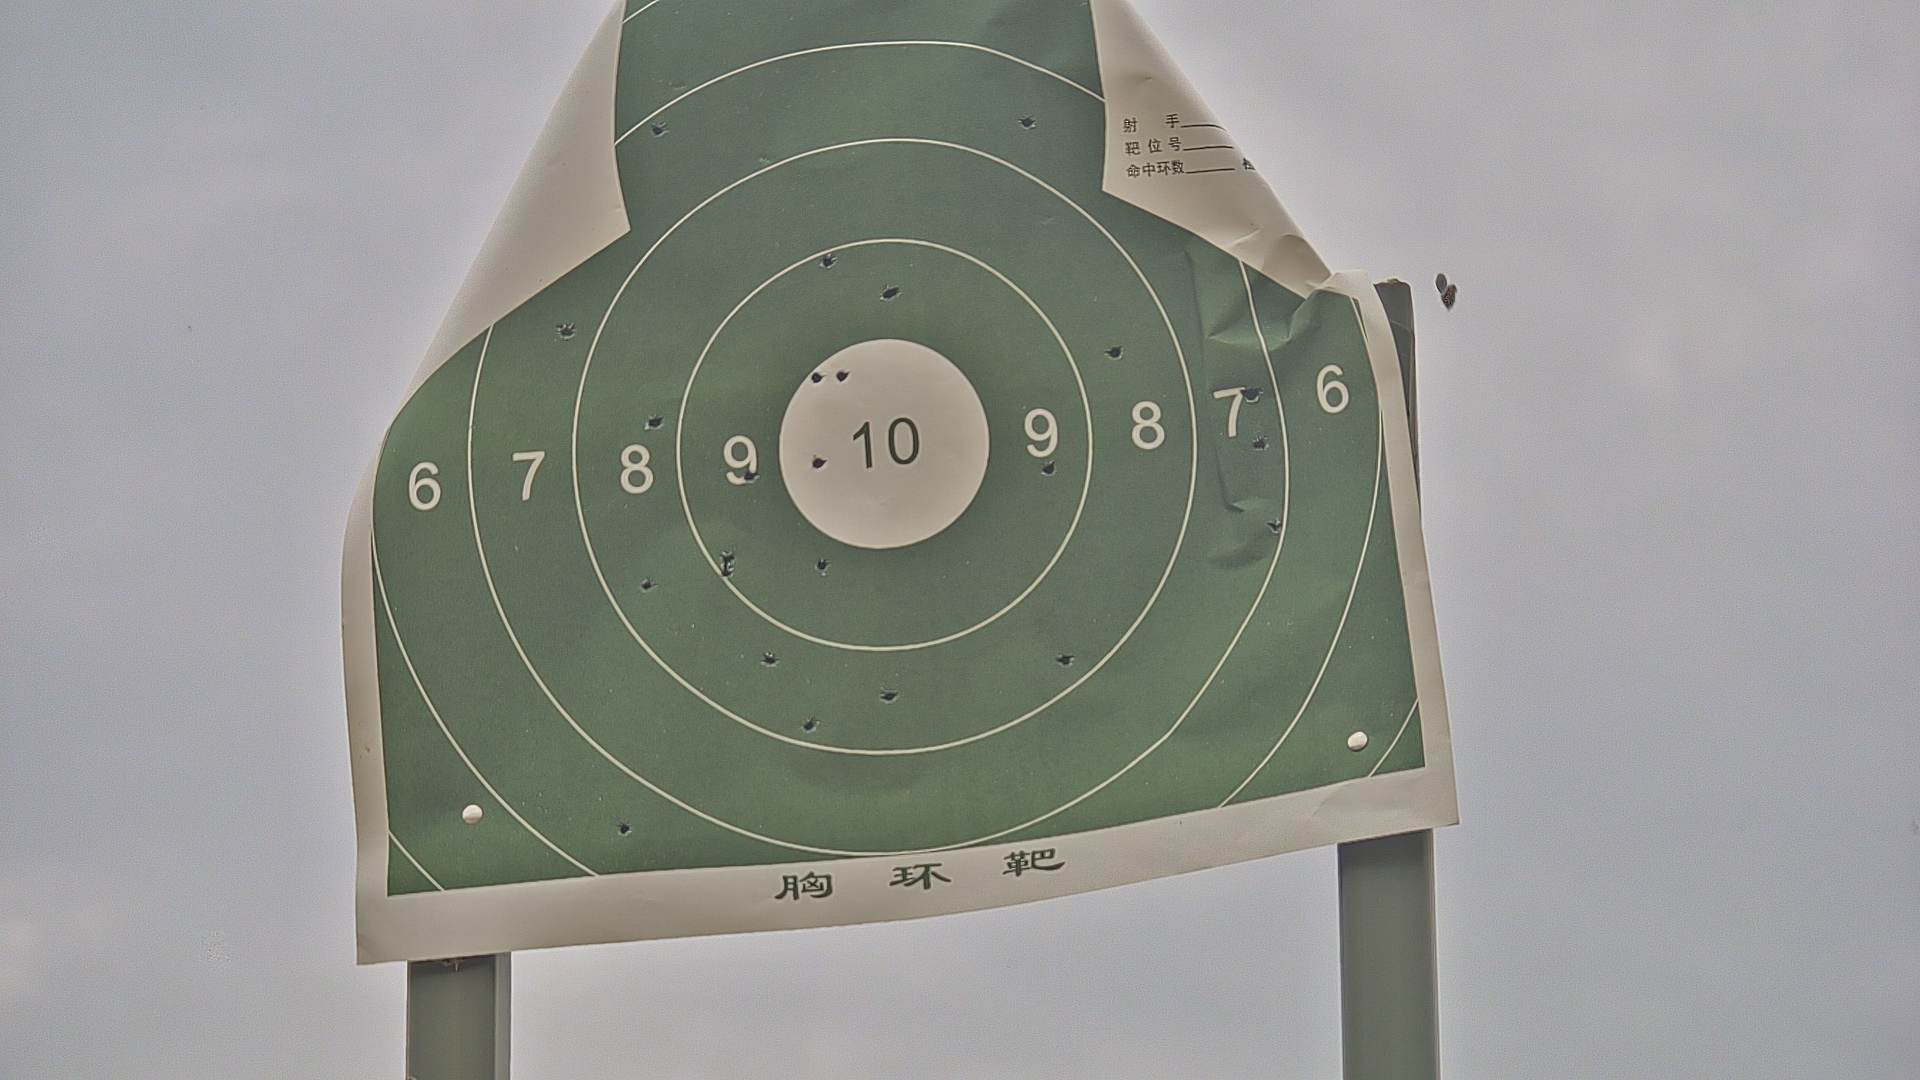hole: (881, 688, 901, 705), (744, 467, 761, 485), (811, 454, 828, 469), (802, 717, 818, 735), (1240, 386, 1258, 401), (881, 286, 898, 301), (1106, 345, 1124, 360), (646, 414, 663, 429), (1253, 436, 1267, 452), (717, 563, 732, 579), (835, 369, 849, 384), (1269, 517, 1282, 533), (760, 653, 775, 666), (558, 324, 574, 338), (1021, 115, 1035, 128), (1043, 460, 1058, 473), (618, 822, 632, 836), (640, 576, 654, 589), (1058, 653, 1073, 665), (651, 123, 665, 136), (815, 558, 829, 570), (811, 369, 823, 384), (723, 550, 735, 564), (822, 255, 835, 266)
kernel: (877, 440, 880, 444)
target: (372, 1, 1429, 897)
ten: (777, 342, 990, 549)
